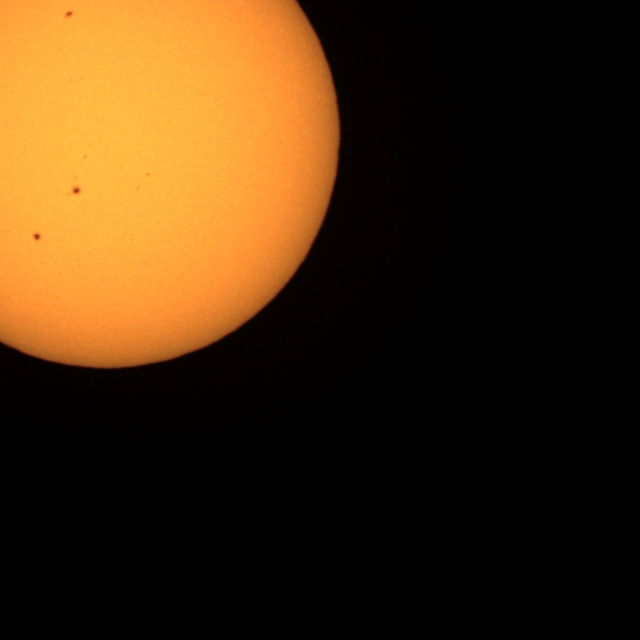sunspot: (66, 186, 82, 197), (32, 232, 42, 242), (63, 10, 74, 19), (145, 171, 151, 178), (82, 154, 88, 160)
